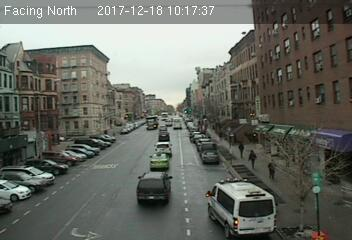car: (136, 171, 170, 202), (150, 152, 169, 168), (202, 149, 218, 164), (153, 141, 171, 153), (158, 131, 170, 140)
police: (204, 177, 279, 236)
